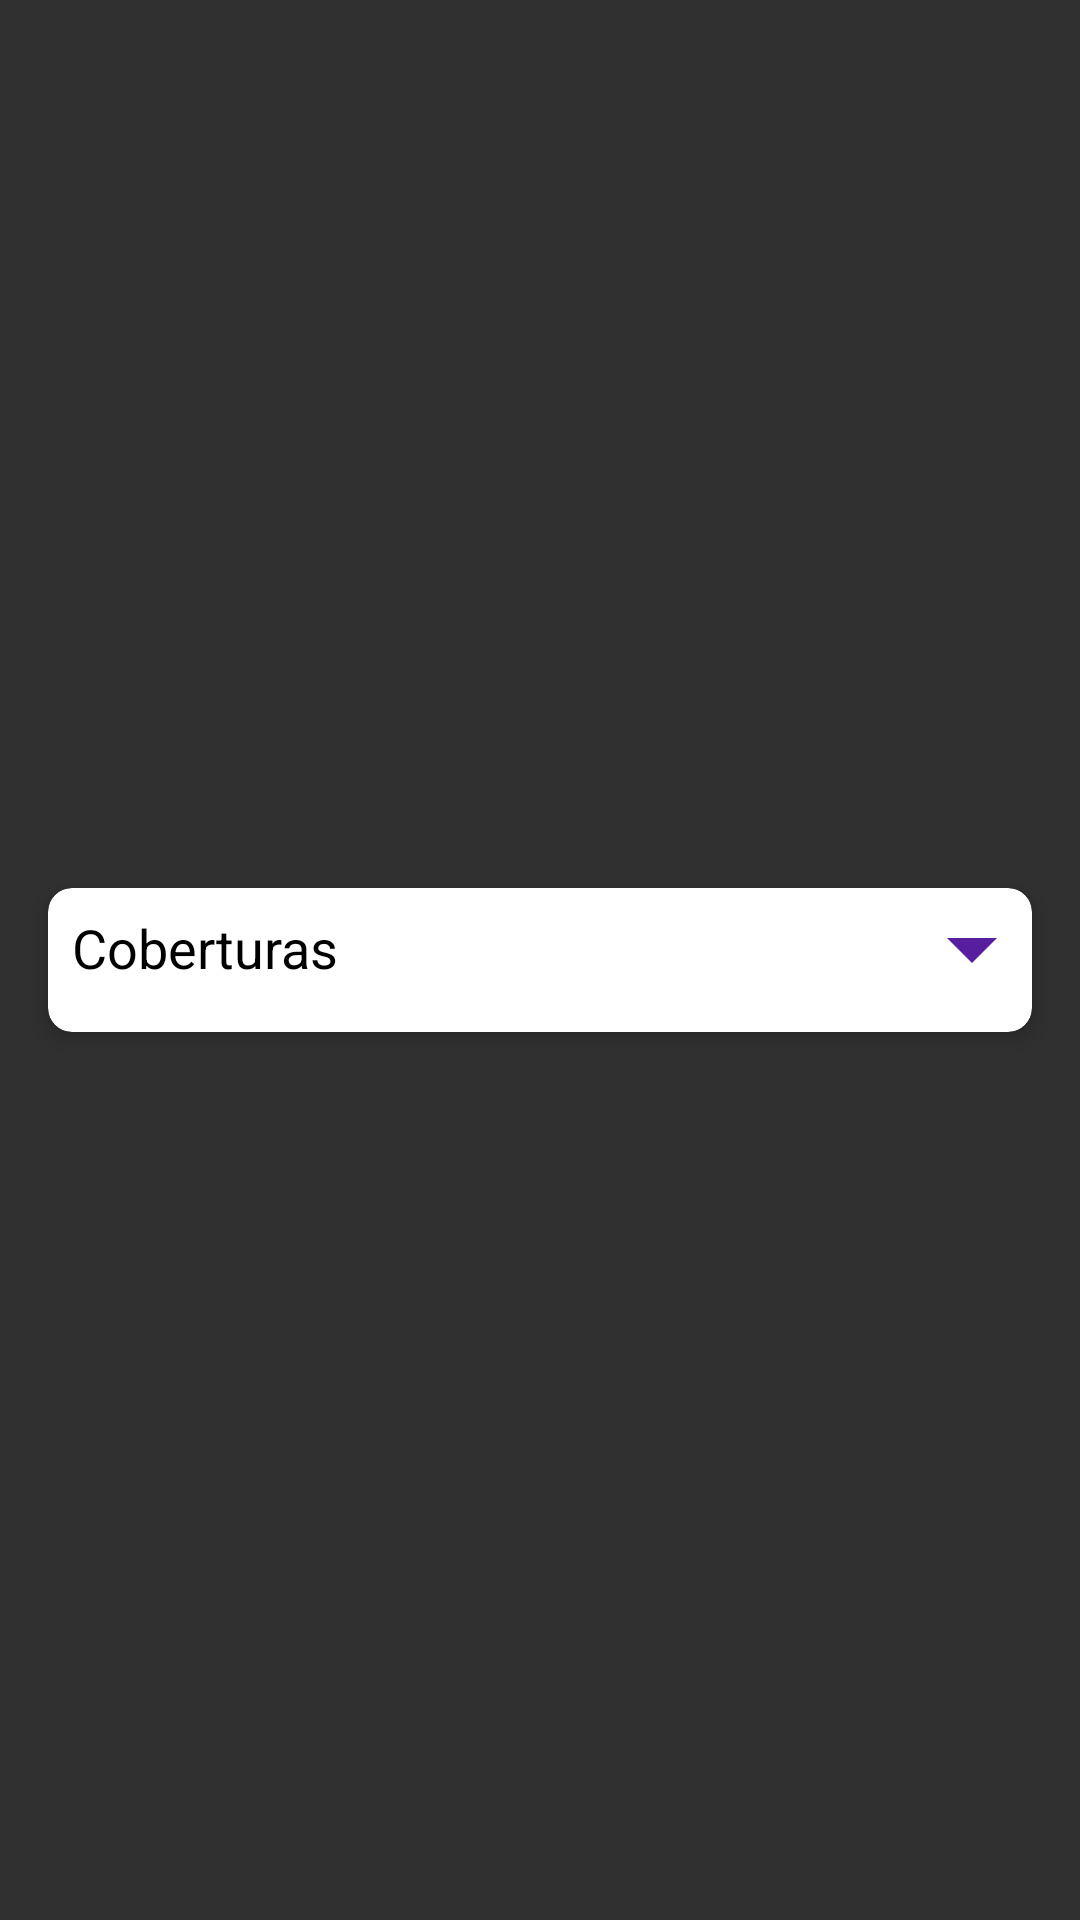

Icons on this 1080w x 1920h Android screen, each with the point to tap as (x,y):
arrow drop down: (972,950)
